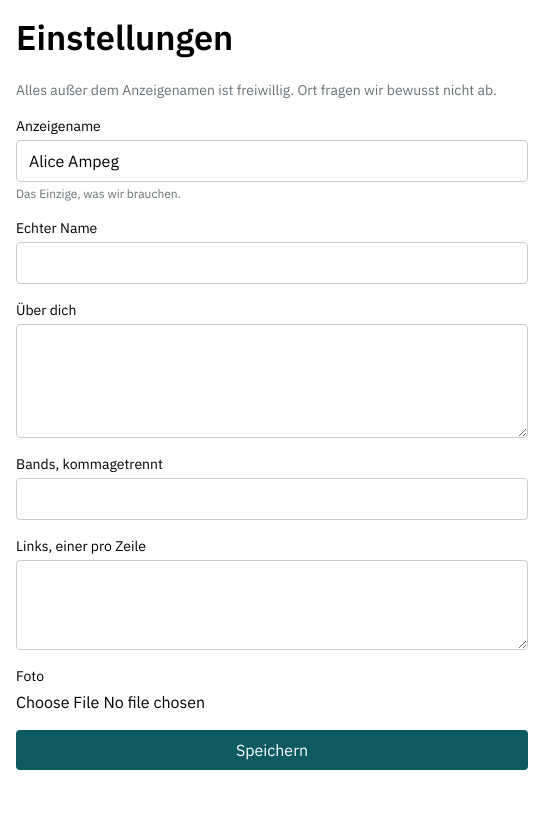
Test: settings.vue - Links validieren › speichert eine gueltige Link-Liste als Label/URL-Paare
Type "https://example.com/alice" into the text box labelled "Links, einer pro Zeile".
click(272, 605); type("https://example.com/alice")  # box [16, 560, 528, 650]
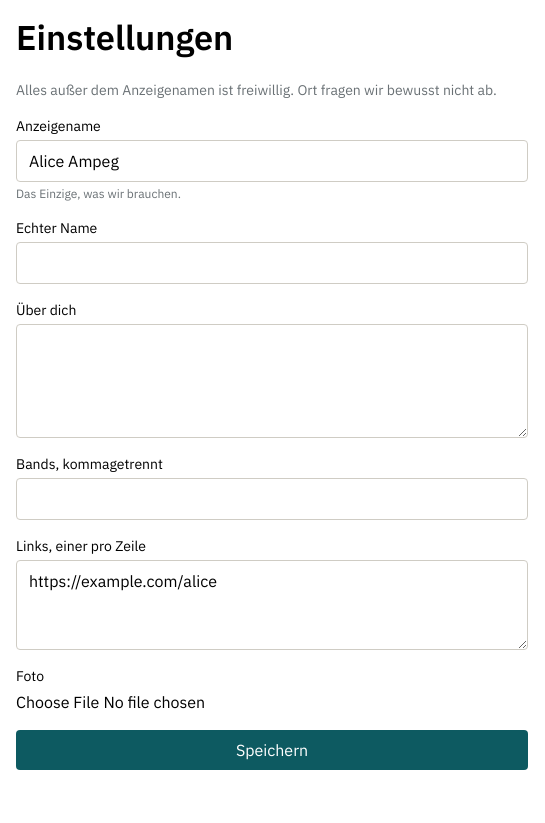
Submit the form
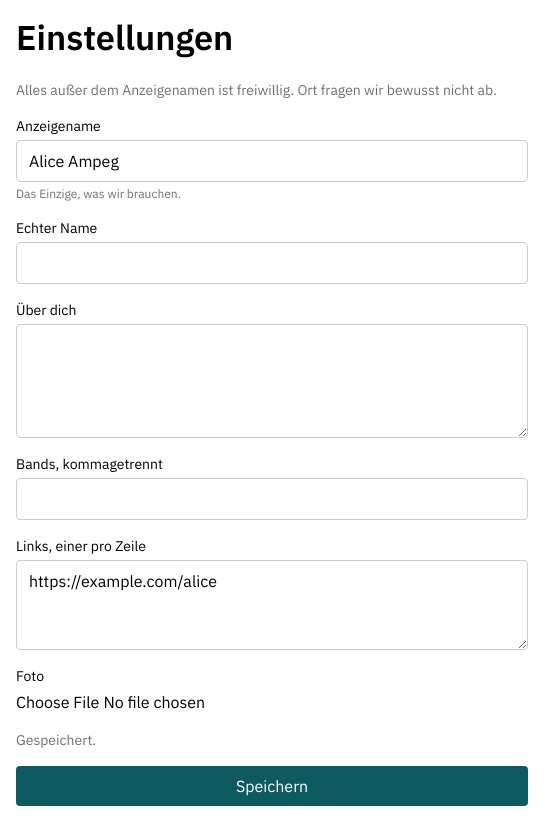
Check: the text "Gespeichert." is shown, box [16, 731, 96, 749]
